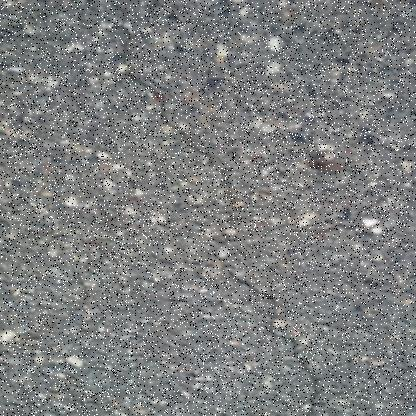Cracks: (224, 268, 336, 416), (125, 71, 241, 199)
